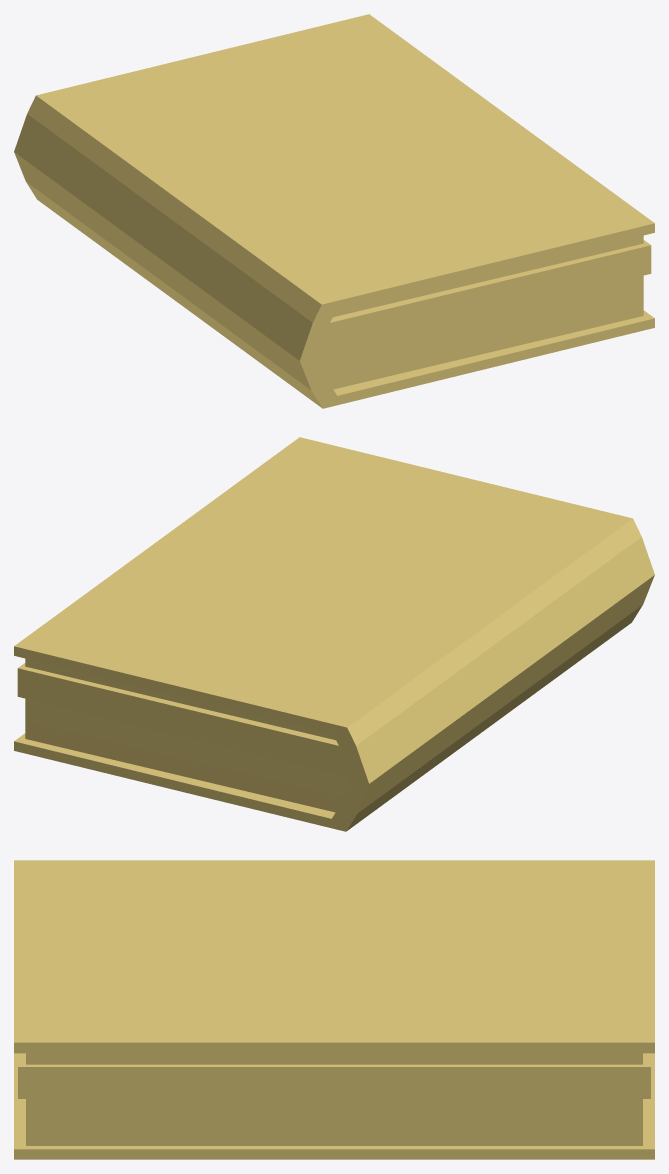
The model's file is Book.002.fbx.
The picture shows the model from 3 angles, top to bottom: view 1: azimuth 30°, elevation 25°; view 2: azimuth 150°, elevation 25°; view 3: azimuth 270°, elevation 25°; orthographic projection. The views are drawn at different scales.
Parts seen in each view (by area): view 1: Book.002; view 2: Book.002; view 3: Book.002.
Boxes of the visible parts, x1,y1,x2,y2 form: Book.002: (14,14,654,408); Book.002: (14,437,654,831); Book.002: (14,860,654,1159).
Size of the model in its own units: 38.9 by 10.94 by 54.2.
